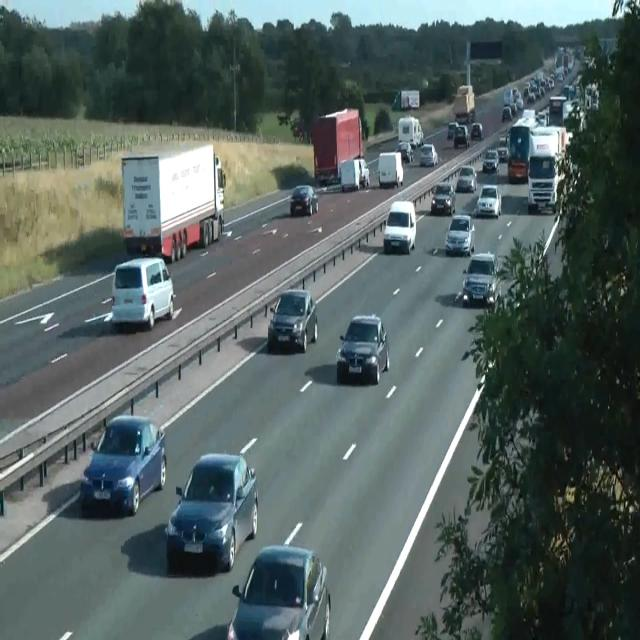bus: (166, 452, 258, 572), (227, 544, 331, 639), (80, 414, 166, 516), (336, 313, 390, 385), (267, 288, 317, 352), (462, 252, 499, 308), (445, 213, 475, 257), (290, 184, 318, 216), (476, 184, 502, 218), (430, 181, 456, 215), (456, 165, 477, 193), (482, 148, 499, 174), (356, 157, 370, 187), (395, 140, 414, 162), (420, 143, 438, 166), (454, 125, 471, 148), (292, 119, 304, 139), (471, 122, 483, 140), (447, 121, 458, 139), (497, 146, 508, 162), (502, 106, 512, 122)
jeep: (110, 256, 176, 330), (383, 200, 416, 254)
minibus: (121, 143, 225, 263), (311, 106, 363, 186), (527, 124, 566, 214), (507, 112, 546, 183), (340, 157, 370, 192), (378, 150, 403, 188), (398, 115, 424, 148), (453, 85, 475, 124), (392, 89, 419, 110)
